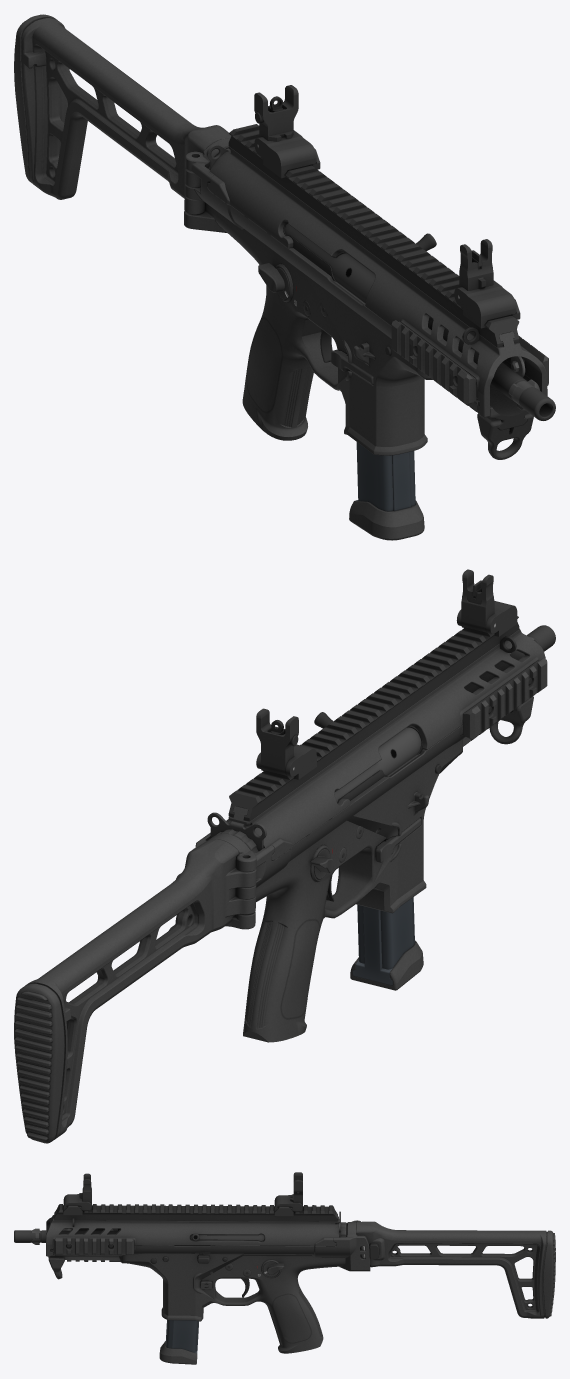
File: pmx.glb
3 views of the same model, one above another, from view 1: azimuth 30°, elevation 25°; view 2: azimuth 150°, elevation 25°; view 3: azimuth 270°, elevation 25° (orthographic). The views are drawn at different scales.
Visible parts, largest first — view 1: pmx_pmxs_comune; view 2: pmx_pmxs_comune; view 3: pmx_pmxs_comune.
Boxes of the visible parts, left/top/right/bottom form: pmx_pmxs_comune: left=14, top=14, right=555, bottom=540; pmx_pmxs_comune: left=14, top=569, right=555, bottom=1143; pmx_pmxs_comune: left=14, top=1172, right=555, bottom=1364.
Size of the model in its own units: 7.49 by 23.85 by 64.21.
2 materials, 2 textured.
